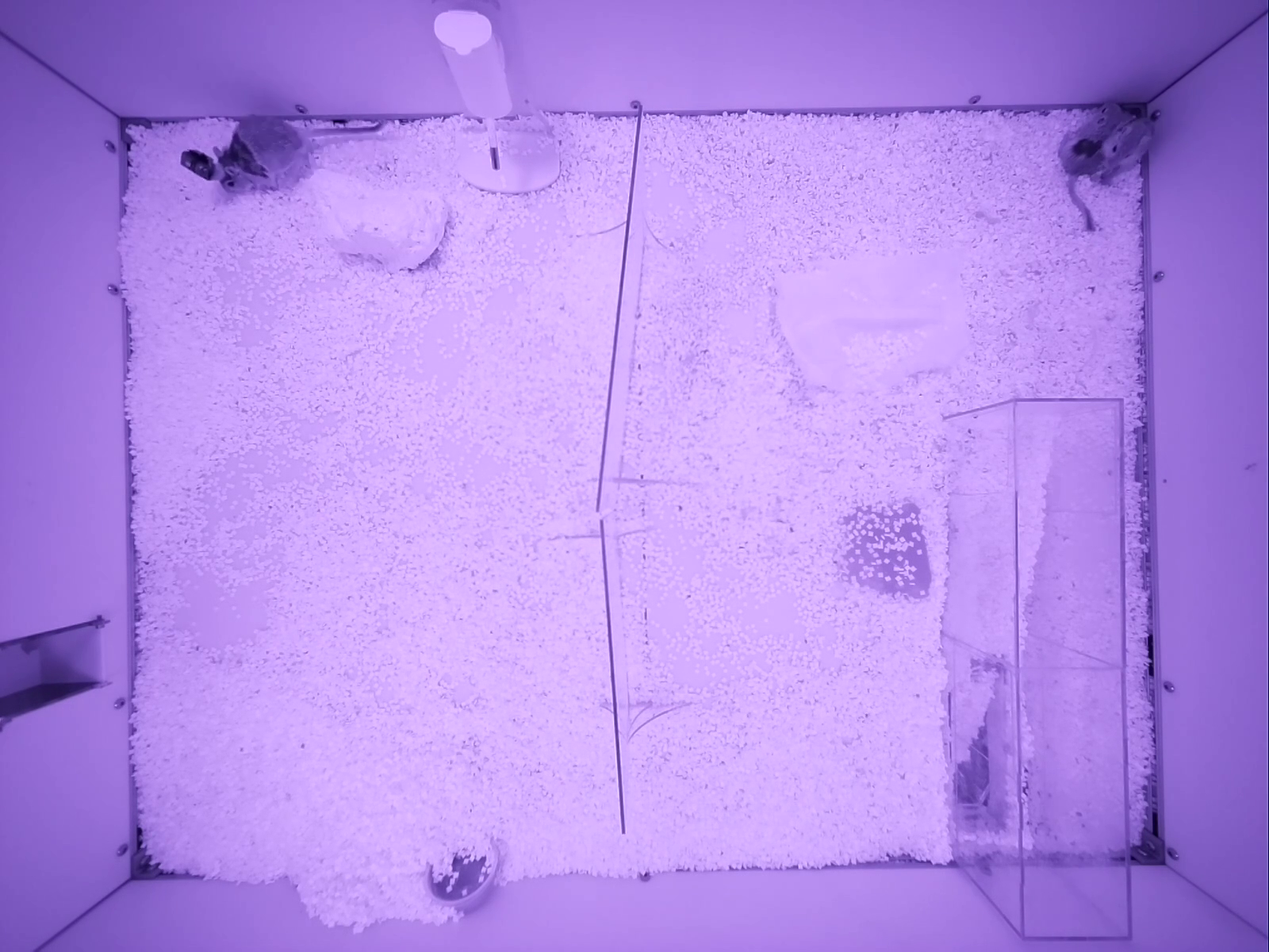adult_back: (182, 117, 385, 193), (1060, 103, 1153, 229)
